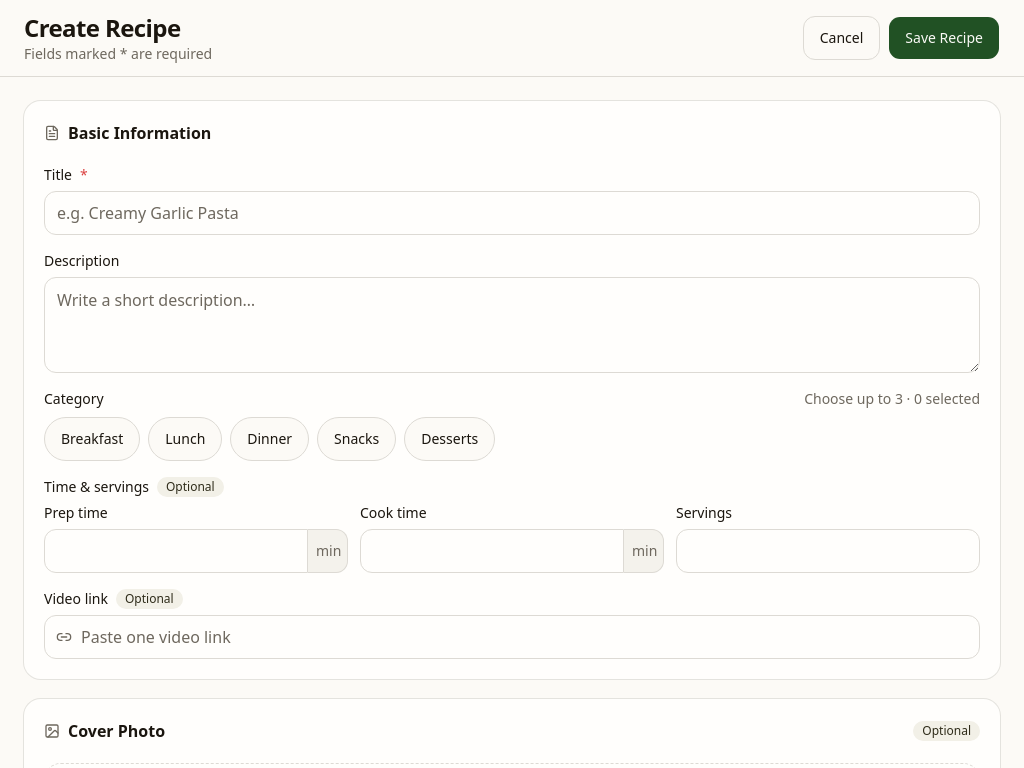
Test: disables unselected categories once three are chosen and re-enables them when one is removed
Click the button "Breakfast": (92, 439) [44,417,140,461]
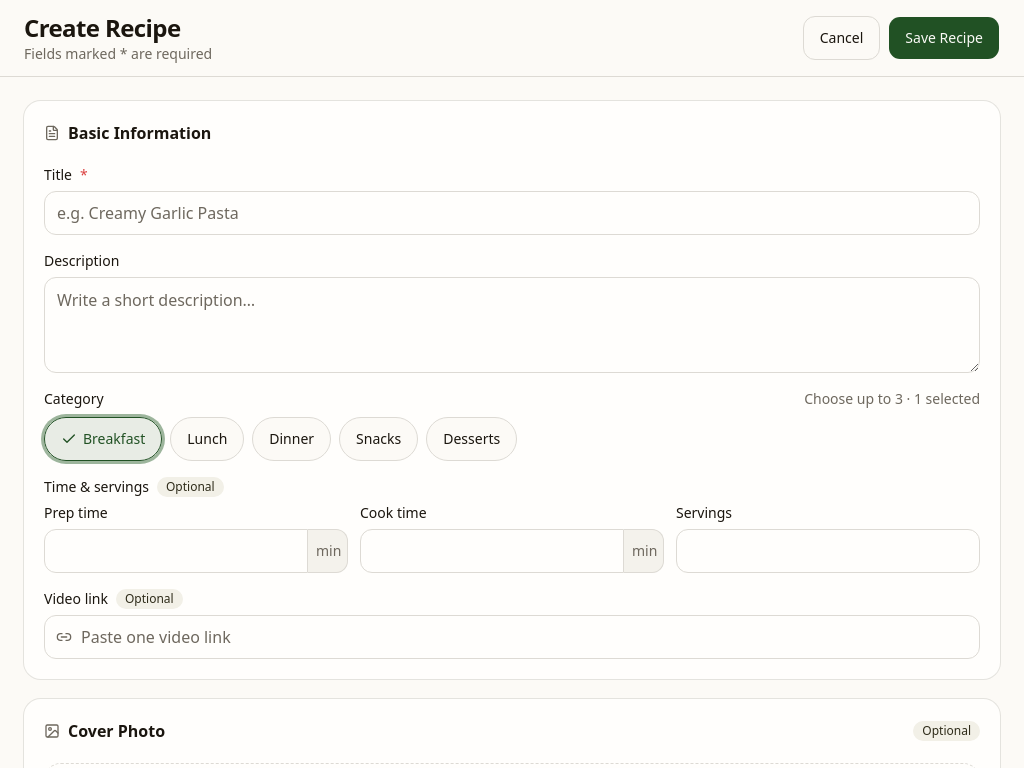
Click the button "Lunch": (207, 439) [170,417,244,461]
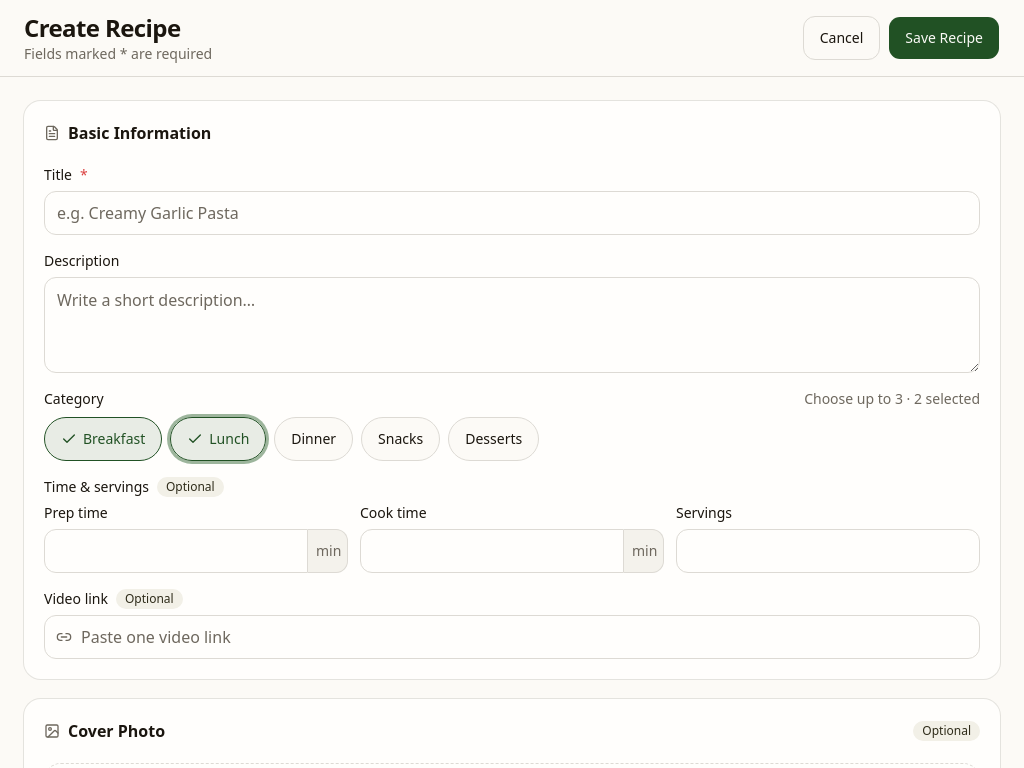
Click the button "Dinner": (314, 439) [274,417,353,461]
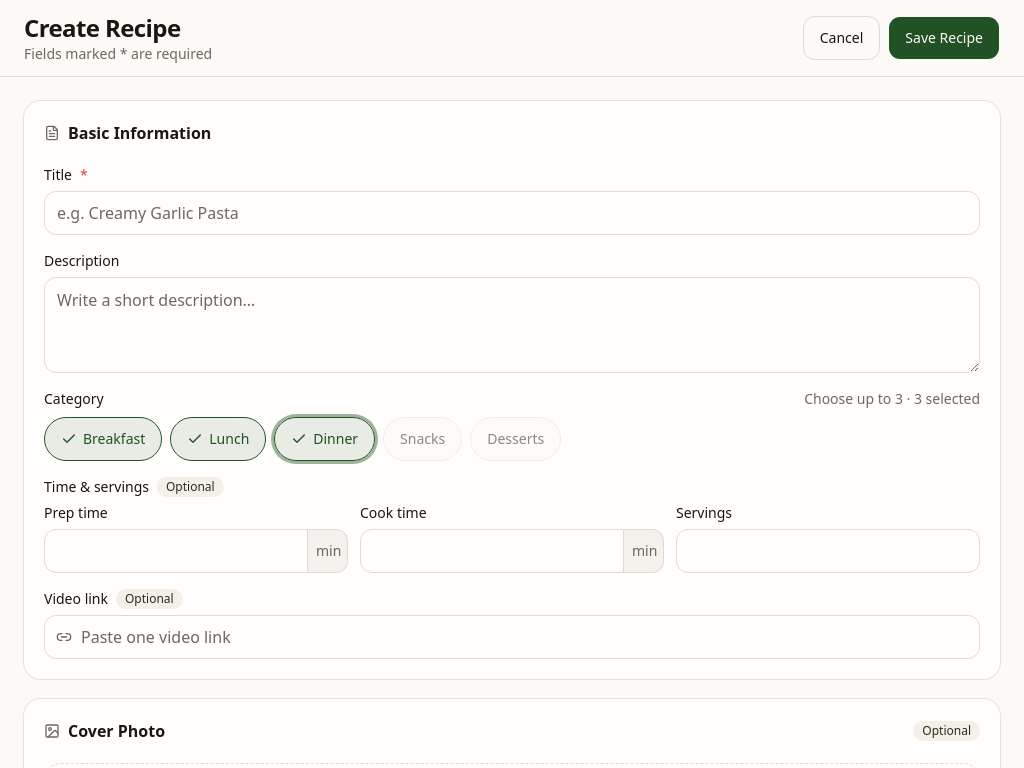
Expected: the text "Choose up to 3 · 3 selected" is shown, [804,389,980,409]
Expected: the button "Snacks" is disabled, [383,417,462,461]
Expected: the button "Desserts" is disabled, [470,417,561,461]
Click the button "Lunch": (218, 439) [170,417,266,461]
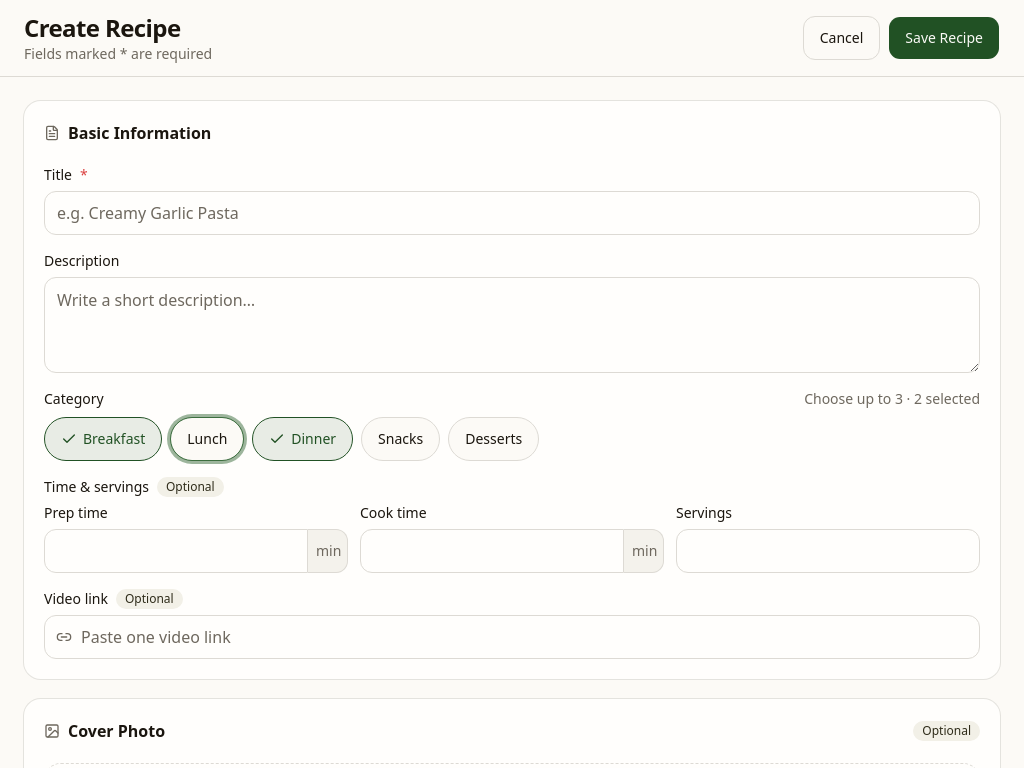
Expected: the button "Snacks" is enabled, [361,417,440,461]
Expected: the text "Choose up to 3 · 2 selected" is shown, [804,389,980,409]
